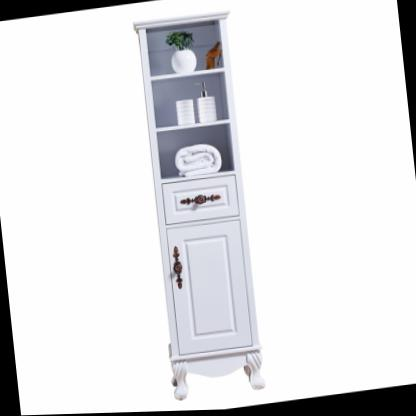Cupboard: (133, 11, 264, 401)
